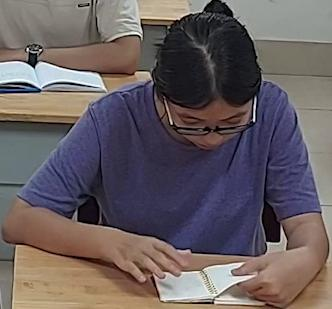Reading: (10, 3, 331, 309)
